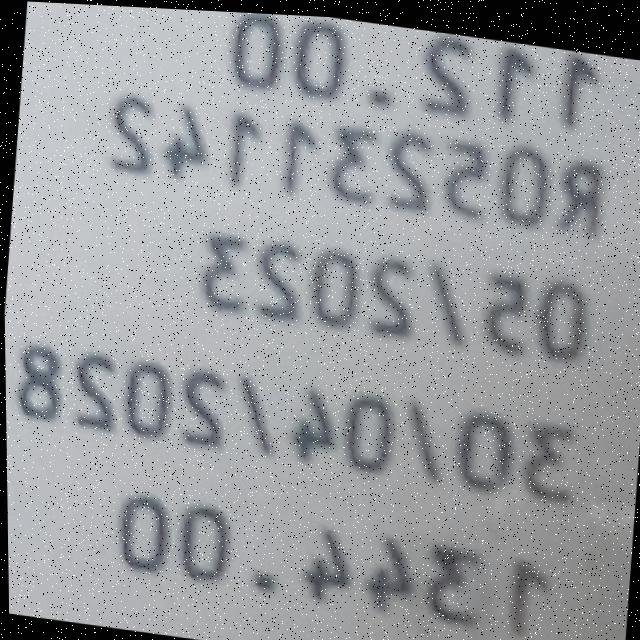sentence: (15, 344, 573, 497), (110, 93, 602, 230), (115, 494, 547, 630), (198, 229, 586, 353), (229, 10, 597, 122)
